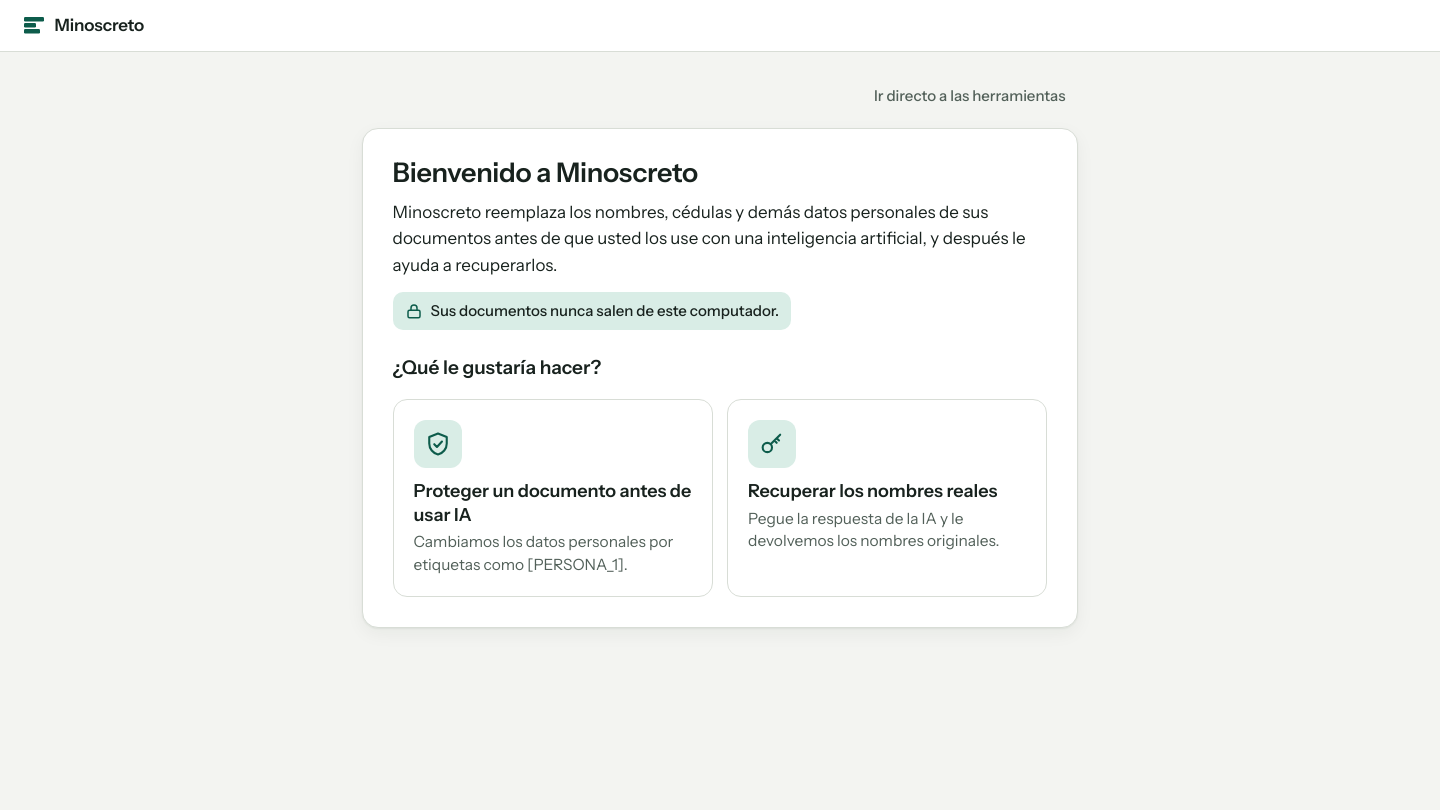
bienvenida guiada › pregunta qué hacer y lleva a Restaurar nombres
Expected: the heading "¿Qué le gustaría hacer?" is shown, [393,356,601,379]
Expected: the text "Sus documentos nunca salen de este computador." is shown, [393,292,791,330]
Click the button "Recuperar los nombres reales": [887, 498] box [727,399,1047,597]
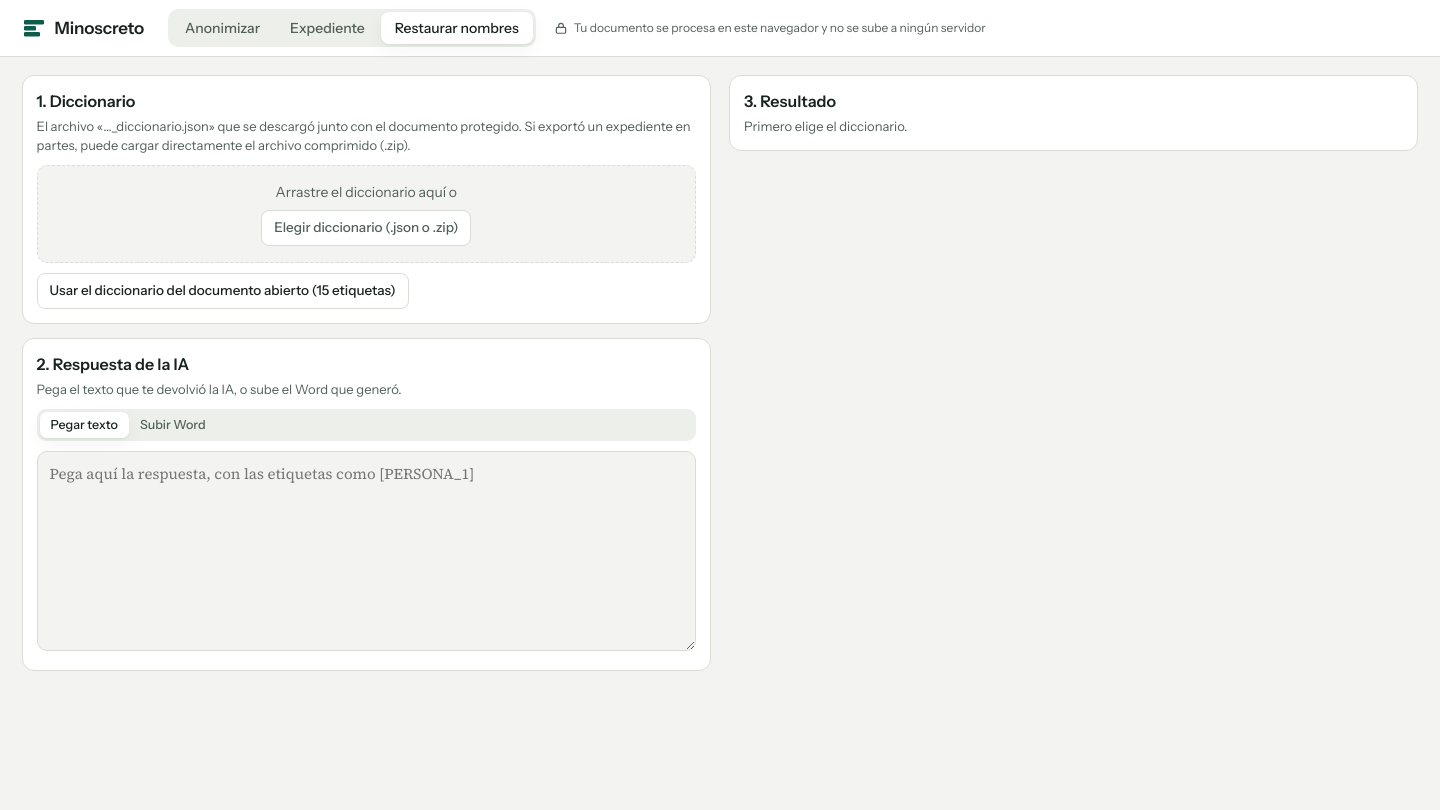
Expected: the text box with placeholder "Pega aquí la respuesta, con las etiquetas como [PERSONA_1]" is shown, [37,451,696,651]
